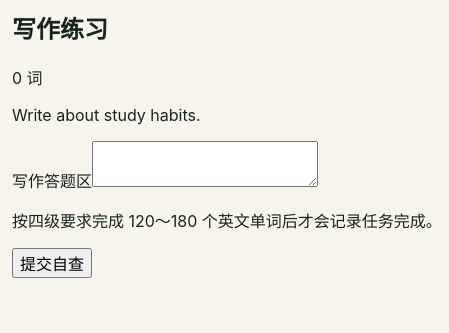
Test: SubjectiveEditor › keeps an invalid draft and does not complete the exercise
The image size is (449, 333).
Type "Too short." into the text box labelled "写作答题区" at (205, 164), box [92,141,318,187]
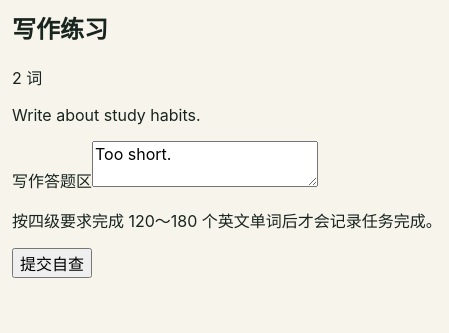
Click the button "提交自查" at (52, 263), box [12,248,92,278]
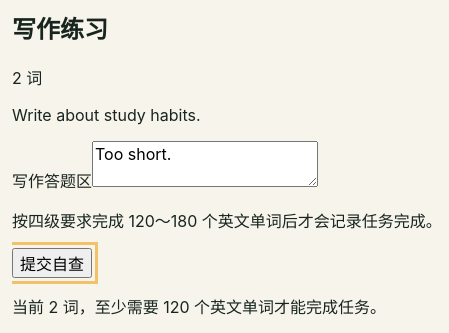
Now the message shows "至少需要 120 个英文单词", box [12,297,386,317]
